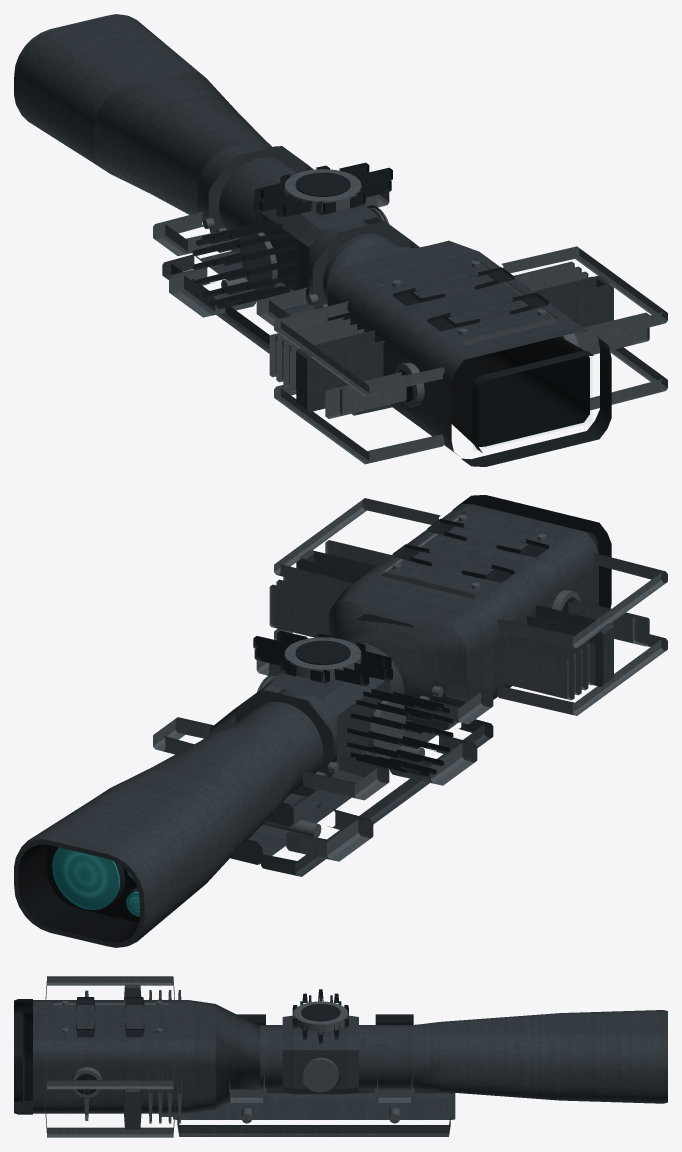
Rendered from spr_scope_pcvr.glb.
3 renders of one model, top to bottom at view 1: azimuth 30°, elevation 25°; view 2: azimuth 150°, elevation 25°; view 3: azimuth 270°, elevation 25°, orthographic. The views are drawn at different scales.
Parts seen in each view (by area): view 1: ScopeHousing, ScopeDarkInterior, ScopeMount; view 2: ScopeHousing, ScopeMount, ScopeDarkInterior, FrontObjectiveGlass; view 3: ScopeHousing, ScopeMount, ScopeDarkInterior.
Part boxes in pixels (box(x1,y1,x2,y2)): ScopeHousing: box(14, 14, 667, 466); ScopeDarkInterior: box(451, 336, 589, 446); ScopeMount: box(153, 146, 419, 415); ScopeHousing: box(14, 495, 667, 947); ScopeMount: box(153, 614, 493, 876); ScopeDarkInterior: box(18, 844, 139, 942); FrontObjectiveGlass: box(52, 847, 139, 916); ScopeHousing: box(14, 976, 667, 1137); ScopeMount: box(161, 1014, 455, 1136); ScopeDarkInterior: box(24, 1012, 32, 1100).
Size of the model in its own units: 0.1182 by 0.0498 by 0.292.
6 materials, 6 textured.
